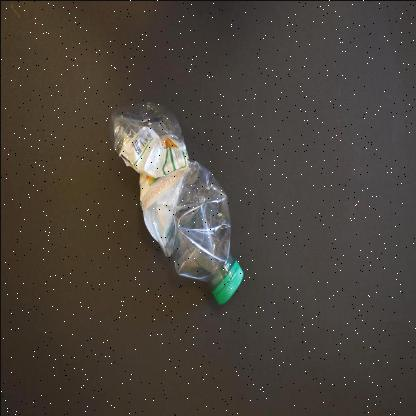Plastic Bottle: (108, 101, 242, 303)
